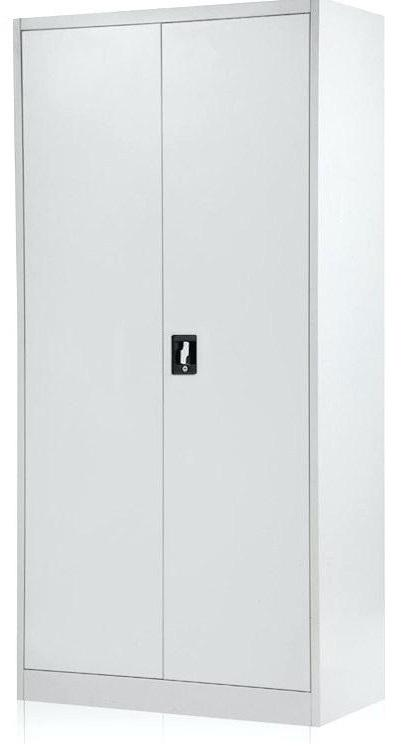cabinet_door: (168, 14, 310, 697), (24, 16, 165, 687)
handle: (170, 332, 200, 374)
